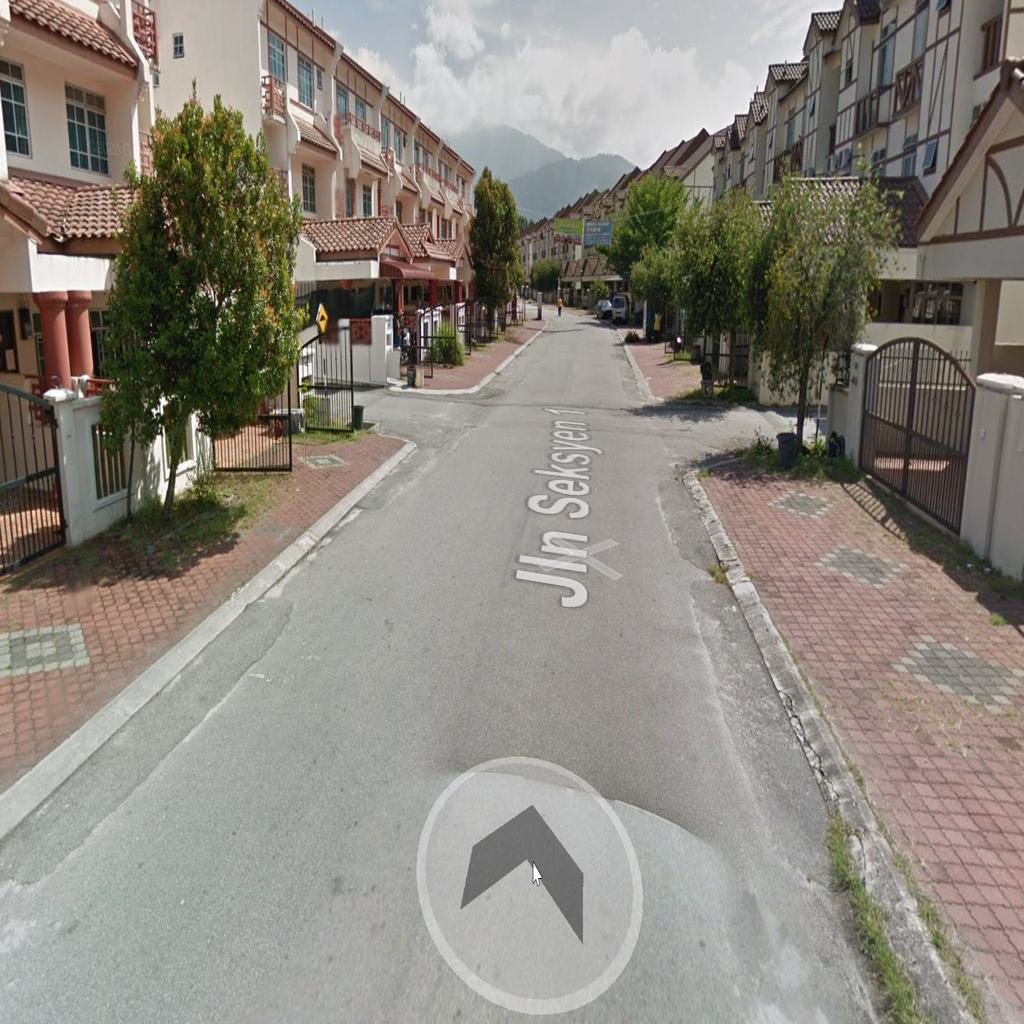Junction: (632, 397, 832, 490), (327, 359, 484, 460)
